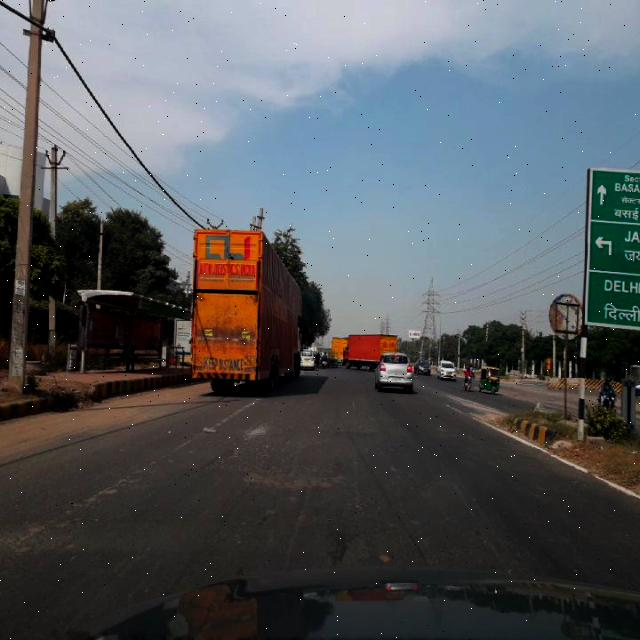D00: (436, 455, 506, 569), (348, 428, 374, 566)
D01: (284, 491, 310, 557)
D40: (207, 435, 345, 489), (372, 546, 396, 566)
D44: (9, 464, 147, 549), (148, 411, 234, 463)
